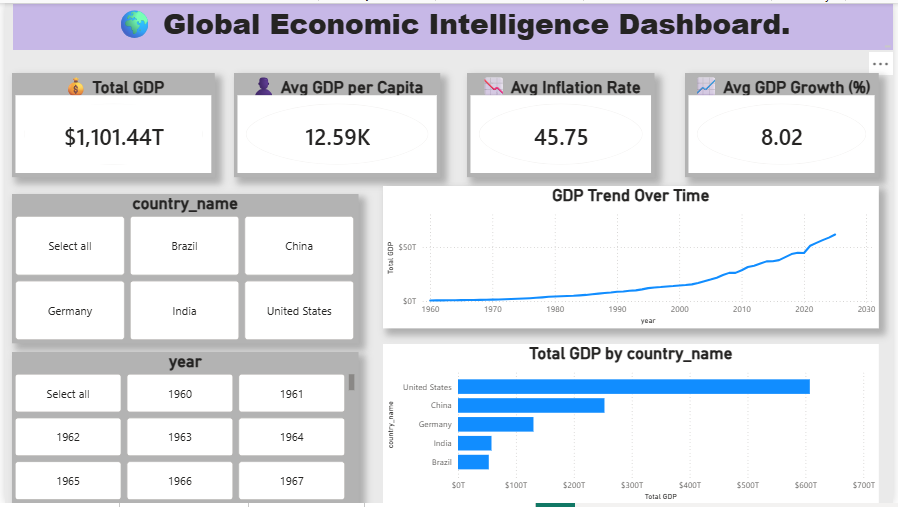

What the dashboard file says about the page in this screenshot:
{"tool":"powerbi","page":{"name":"Executive Dashboard","canvas":[1280,720],"ordinal":0},"visuals":[{"type":"textbox","title":"Global Economic Intelligence Dashboard.","box":[10.1,0,1269.9,68.9],"z":0},{"type":"cardVisual","title":"Total GDP","fields":{"Data":["analytical_master_dataset.Total GDP"]},"box":[10.1,100.8,292.3,149.5],"z":1000},{"type":"cardVisual","title":"Avg GDP per Capita","fields":{"Data":["analytical_master_dataset.Avg GDP per Capita"]},"box":[329.2,100.8,297.3,149.5],"z":2000},{"type":"cardVisual","title":"Avg Inflation Rate","fields":{"Data":["analytical_master_dataset.Avg Inflation Rate"]},"box":[665.2,100.8,270.4,149.5],"z":3000},{"type":"cardVisual","title":"Avg GDP Growth %","fields":{"Data":["analytical_master_dataset.Avg GDP Growth %"]},"box":[979.3,100.8,278.8,149.5],"z":4000},{"type":"lineChart","fields":{"Category":["analytical_master_dataset.year"],"Y":["analytical_master_dataset.Total GDP"]},"box":[544.3,263.7,713.9,204.9],"z":5000},{"type":"clusteredBarChart","fields":{"Category":["analytical_master_dataset.country_name"],"Y":["analytical_master_dataset.Total GDP"]},"box":[544.3,490.5,713.9,230.1],"z":6000},{"type":"advancedSlicerVisual","fields":{"Values":["analytical_master_dataset.country_name"]},"box":[10.1,275.5,498.9,215],"z":7000},{"type":"advancedSlicerVisual","fields":{"Values":["analytical_master_dataset.year"]},"box":[10.1,502.3,498.9,218.4],"z":8000}]}

Visuals, with their boxes in screenshot pixels (x1, y1, x2, y2), scaled from the page's 1280x720 canvas onto the 898x507 screenshot:
"Global Economic Intelligence Dashboard." textbox: bbox=(7, 0, 897, 49)
"Total GDP" cardVisual: bbox=(7, 71, 212, 176)
"Avg GDP per Capita" cardVisual: bbox=(231, 71, 440, 176)
"Avg Inflation Rate" cardVisual: bbox=(467, 71, 656, 176)
"Avg GDP Growth %" cardVisual: bbox=(687, 71, 883, 176)
lineChart - analytical_master_dataset.year x analytical_master_dataset.Total GDP: bbox=(382, 186, 883, 330)
clusteredBarChart - analytical_master_dataset.country_name x analytical_master_dataset.Total GDP: bbox=(382, 345, 883, 506)
advancedSlicerVisual - analytical_master_dataset.country_name: bbox=(7, 194, 357, 345)
advancedSlicerVisual - analytical_master_dataset.year: bbox=(7, 354, 357, 506)
